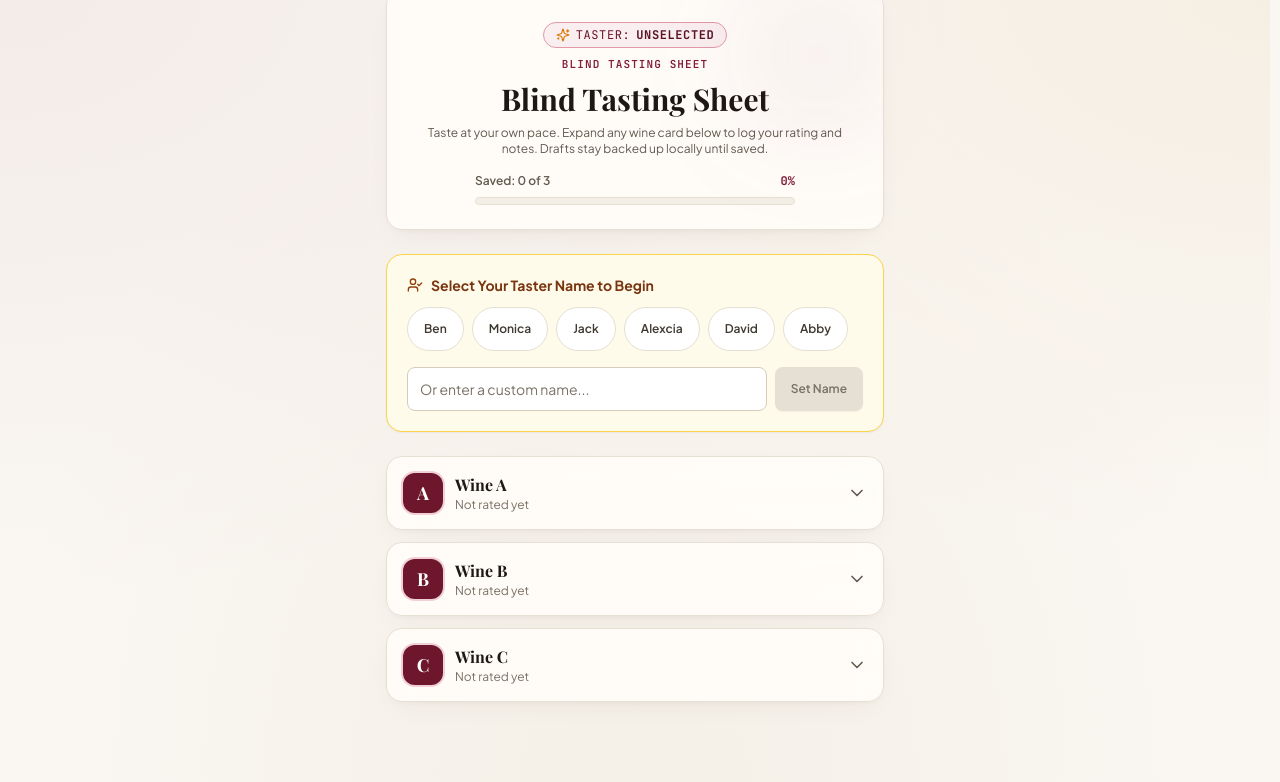
Test: TastingSheet › surfaces inline error and focuses custom taster field instead of disabling Save when voterName is blank
Click the button "A Wine A Not rated yet" at [423, 492], box [387, 456, 883, 528]
(page scrolled)
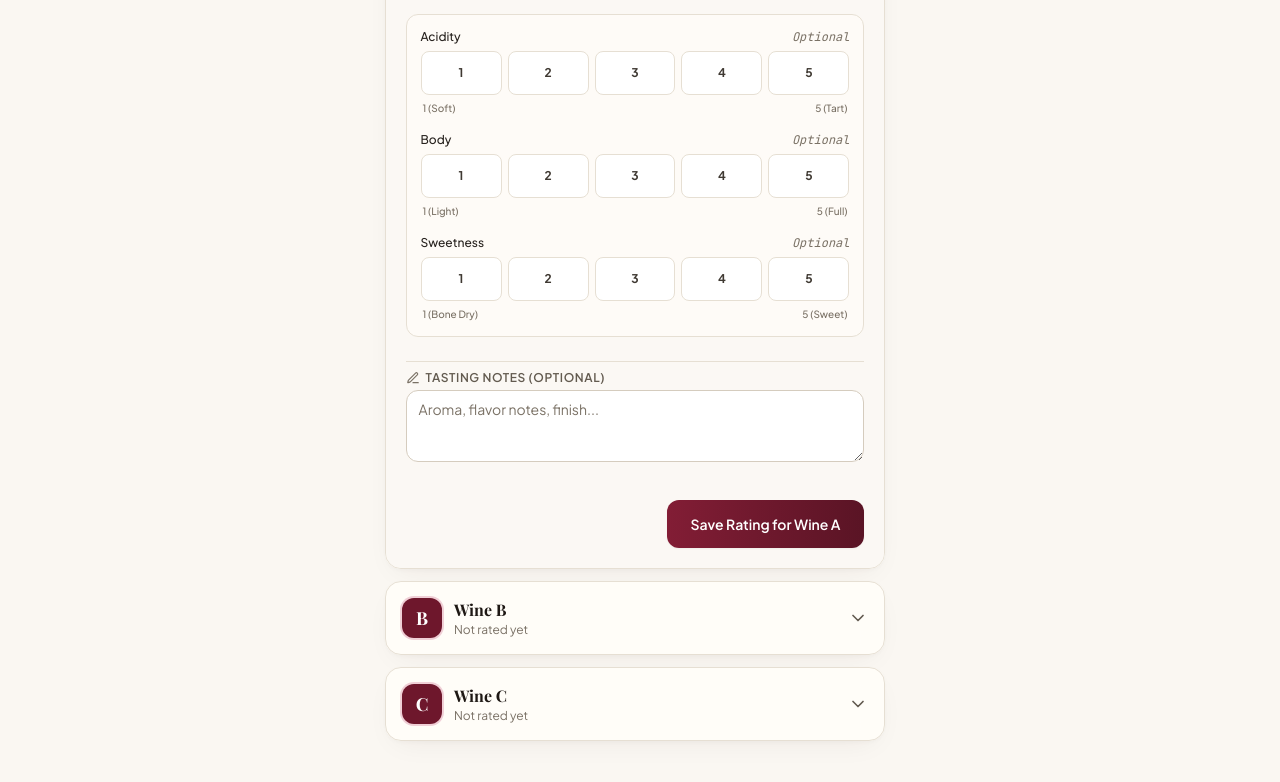
expect the button "Save Rating for Wine A" is enabled: met
Click the button "Save Rating for Wine A" at [766, 524], box [666, 500, 864, 548]
(page scrolled)
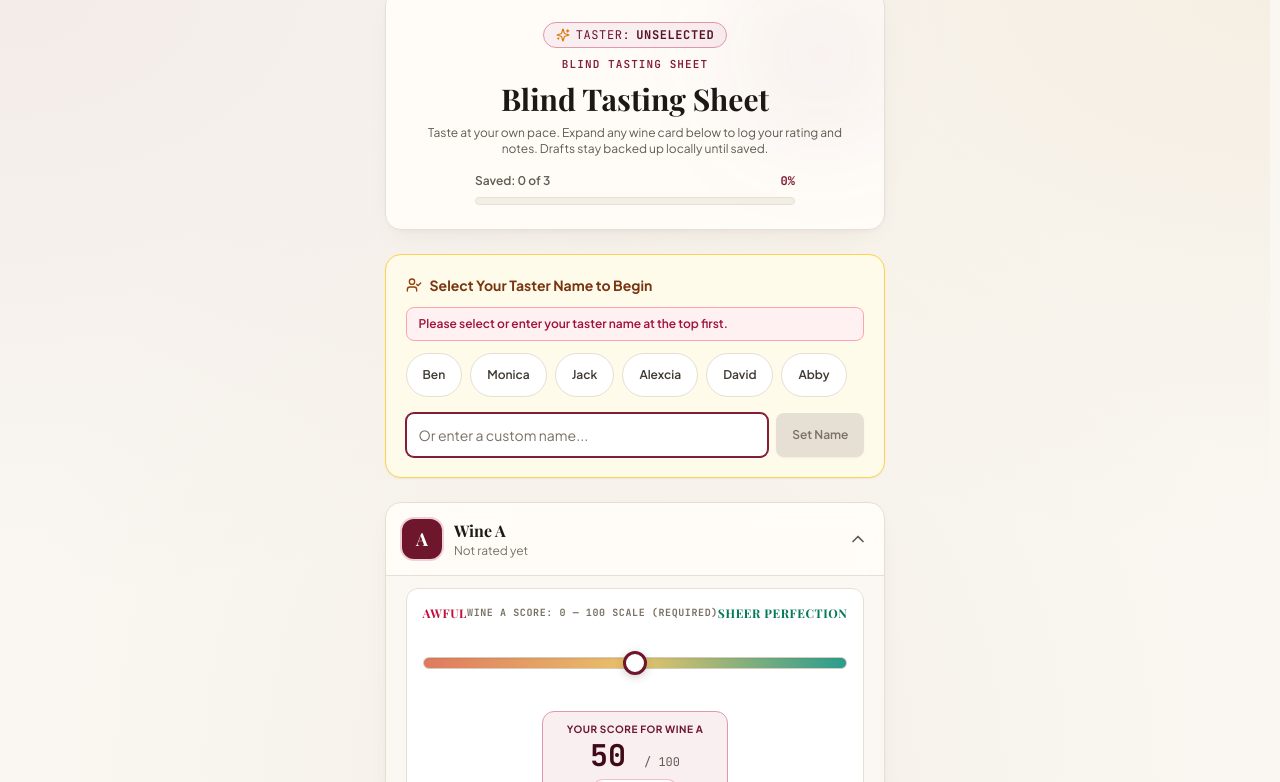
expect the message reads "Please select or enter your taster name at the top first.": met, box [418, 316, 728, 330]
